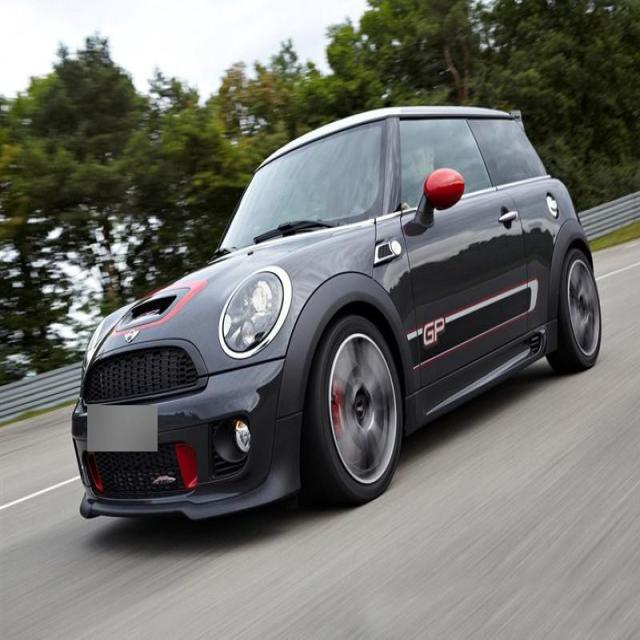front_bumper: (62, 352, 310, 524)
front_glass: (211, 114, 389, 262)
front_left_side_door: (388, 111, 534, 395)
front_left_side_light: (221, 262, 289, 361)
front_left_side_mirror: (408, 167, 466, 251)
front_right_side_light: (84, 315, 105, 378)
wheel: (306, 310, 402, 506), (544, 246, 606, 379)
